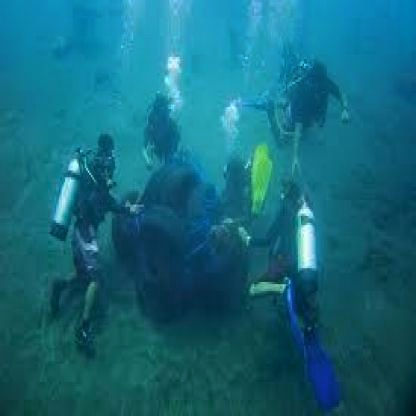tire: (138, 191, 192, 282), (142, 161, 195, 214)
